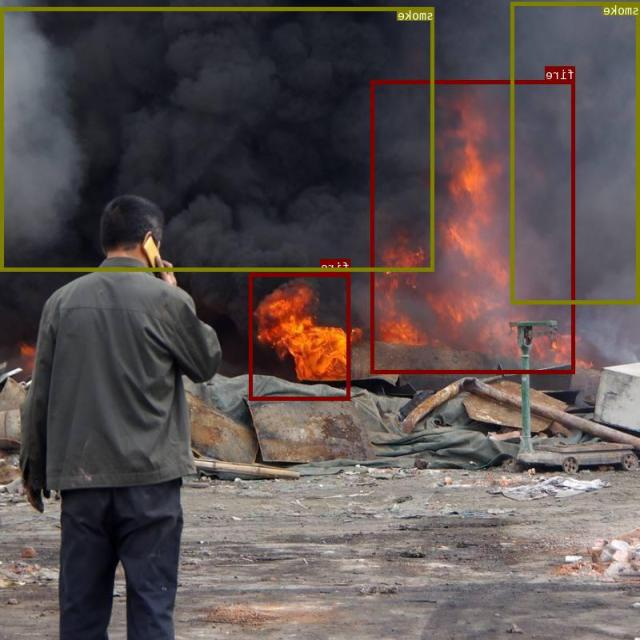fire: (372, 80, 576, 372), (250, 272, 351, 400)
smoke: (2, 6, 434, 270), (511, 2, 640, 304)
